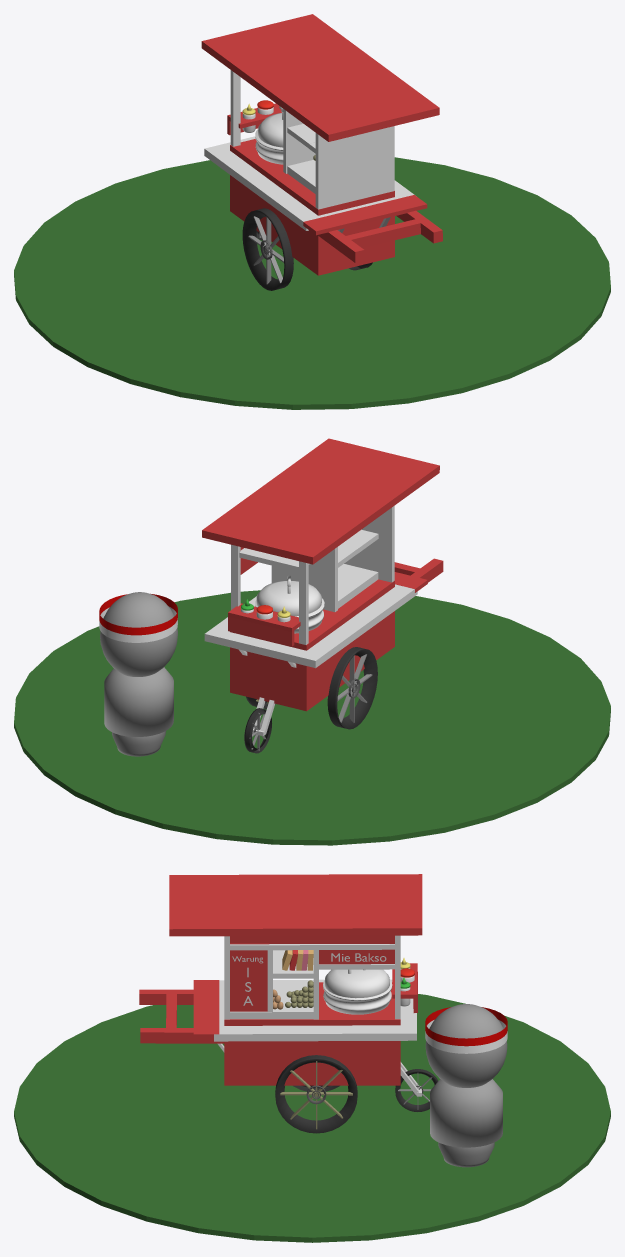
Rendered from warungmie.glb.
3 renders of one model, top to bottom at view 1: azimuth 30°, elevation 25°; view 2: azimuth 150°, elevation 25°; view 3: azimuth 270°, elevation 25°, orthographic.
Visible parts, largest first — view 1: Cylinder.011, Cube.006, Cube, Cube.002, Cube.007, Cylinder.001, Cube.018, Cube.021, Cube.003, Cube.008, Cube.019, Cylinder.005 (+2 smaller); view 2: Cylinder.011, Cube.006, Cylinder.027, Cube, Cube.007, Cylinder.001, Cube.002, Cube.003, Cylinder.005, Cube.023, Cube.011, Cube.008 (+4 smaller); view 3: Cylinder.011, Cube.006, Cylinder.027, Cube, Cube.007, Cylinder.002, Cube.022, Cylinder.005, Cube.018, Cube.015, Cube.023, Cylinder (+8 smaller).
Part boxes in pixels (box(x1,y1,x2,y2)): Cylinder.011: box(14, 157, 610, 409); Cube.006: box(201, 14, 439, 141); Cube: box(230, 139, 394, 275); Cube.002: box(315, 126, 394, 209); Cube.007: box(204, 136, 414, 230); Cylinder.001: box(242, 208, 293, 290); Cube.018: box(303, 195, 427, 235); Cube.021: box(345, 218, 421, 248); Cube.003: box(283, 109, 315, 173); Cube.008: box(230, 70, 240, 146); Cube.019: box(317, 230, 364, 262); Cylinder.005: box(258, 109, 283, 147); Cylinder.011: box(14, 590, 610, 845); Cube.006: box(202, 438, 439, 564); Cylinder.027: box(99, 592, 177, 756); Cube: box(230, 579, 394, 711); Cube.007: box(204, 584, 417, 668); Cylinder.001: box(327, 647, 377, 729); Cube.002: box(344, 506, 394, 582); Cube.003: box(271, 547, 337, 612); Cylinder.005: box(256, 575, 321, 616); Cube.023: box(338, 564, 378, 608); Cube.011: box(228, 616, 294, 646); Cube.008: box(299, 561, 308, 644); Cylinder.011: box(14, 994, 610, 1242); Cube.006: box(169, 874, 422, 936); Cylinder.027: box(425, 1004, 507, 1167); Cube: box(224, 982, 400, 1085); Cube.007: box(214, 979, 416, 1041); Cylinder.002: box(275, 1055, 357, 1133); Cube.022: box(230, 943, 268, 1011); Cylinder.005: box(325, 969, 389, 998); Cube.018: box(193, 980, 219, 1038); Cube.015: box(230, 935, 394, 943); Cube.023: box(230, 981, 313, 1019); Cylinder: box(323, 979, 392, 1014).
Size of the model in its own units: 16.41 by 6.54 by 16.41.
